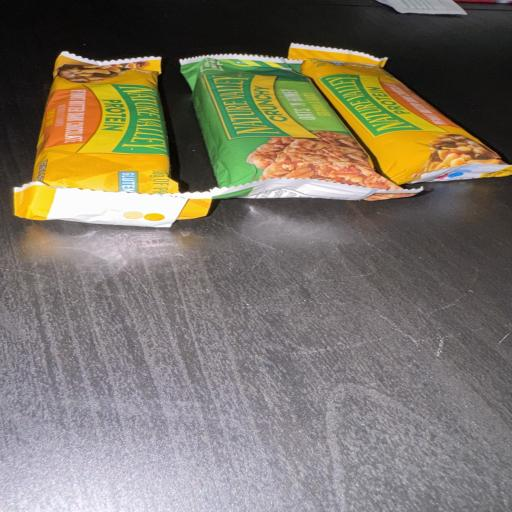granola: (181, 55, 420, 199), (15, 52, 211, 226), (288, 44, 511, 183)
